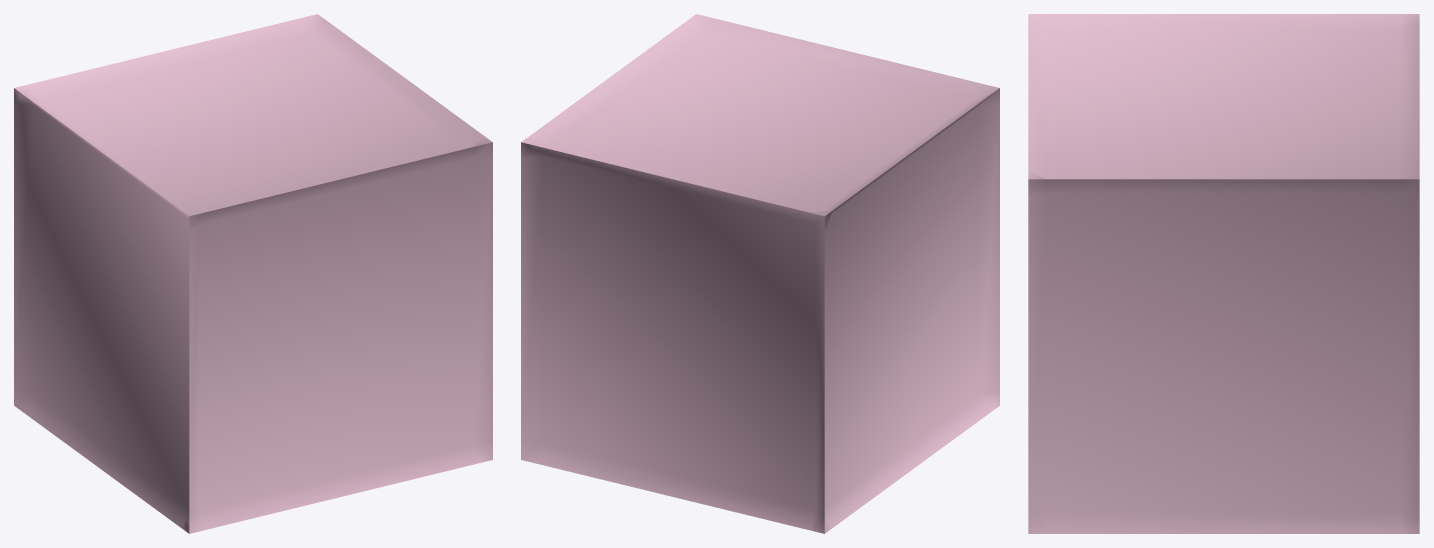
Rendered from BoxPink.fbx.
The picture shows the model from 3 angles, left to right: view 1: azimuth 30°, elevation 25°; view 2: azimuth 150°, elevation 25°; view 3: azimuth 270°, elevation 25°; orthographic projection. The views are drawn at different scales.
Visible parts, largest first — view 1: pCube1; view 2: pCube1; view 3: pCube1.
Part boxes in pixels (box(x1,y1,x2,y2)): pCube1: box(14, 14, 492, 533); pCube1: box(521, 14, 999, 533); pCube1: box(1028, 14, 1419, 533).
Bounding box in the file's own units: 1.27 × 1.27 × 1.27.
